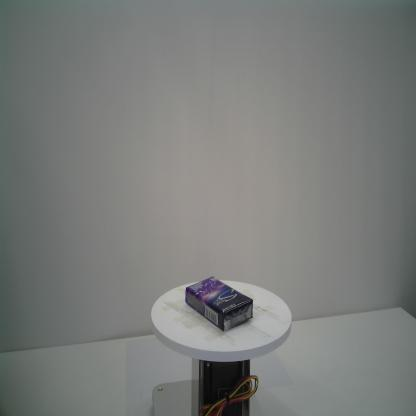Gum: (184, 275, 254, 333)
